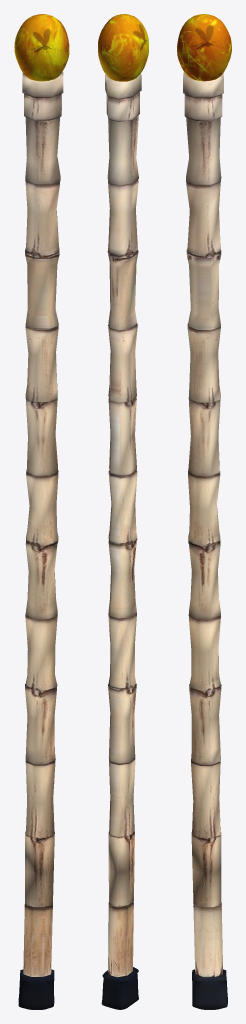
The model's file is WorldItem-WalkingCane_WalkingCaneJP.fbx.
3 views of the same model, side by side, from view 1: azimuth 90°, elevation 25°; view 2: azimuth 150°, elevation 25°; view 3: azimuth 270°, elevation 25° (orthographic).
Visible parts, largest first — view 1: Hammond's Cane; view 2: Hammond's Cane; view 3: Hammond's Cane.
Boxes of the visible parts, left/top/right/bottom form: Hammond's Cane: left=14, top=14, right=69, bottom=1009; Hammond's Cane: left=98, top=14, right=148, bottom=1009; Hammond's Cane: left=177, top=14, right=231, bottom=1009.
Bounding box in the file's own units: 0.0291 × 0.63 × 0.0317.
